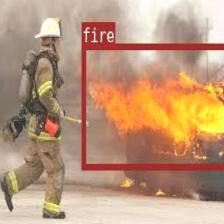fire: (80, 43, 224, 168)
